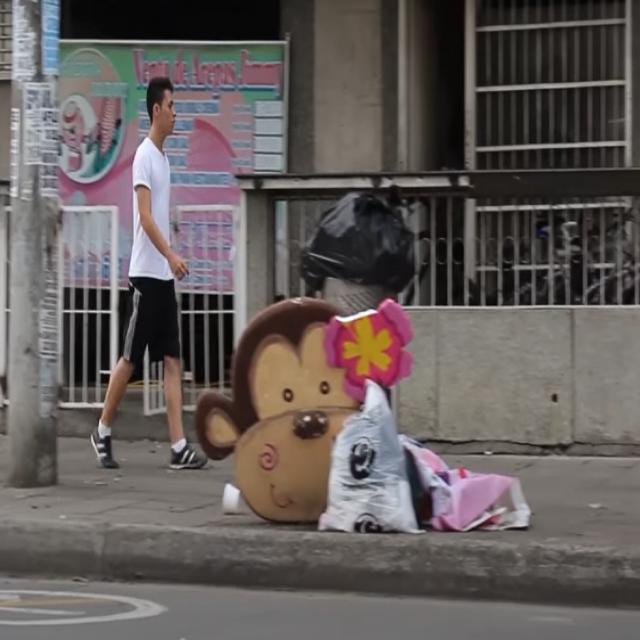Trashbag: (300, 183, 424, 293)
